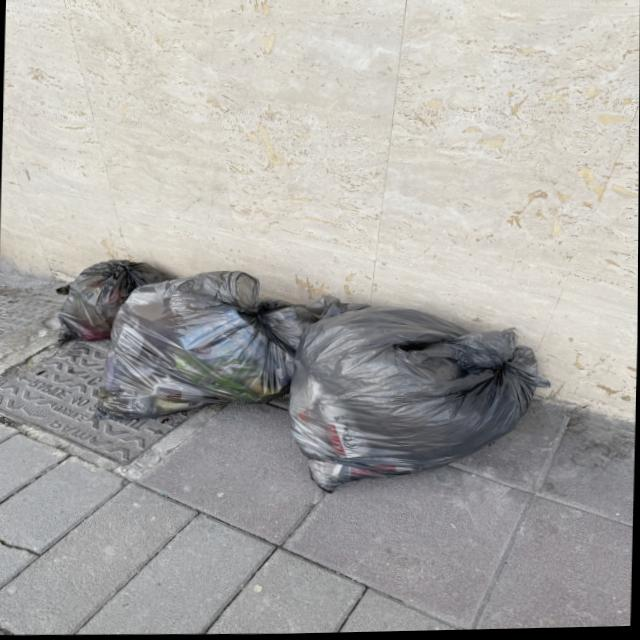Mixed Waste -Black Bags-: (59, 261, 550, 494)
